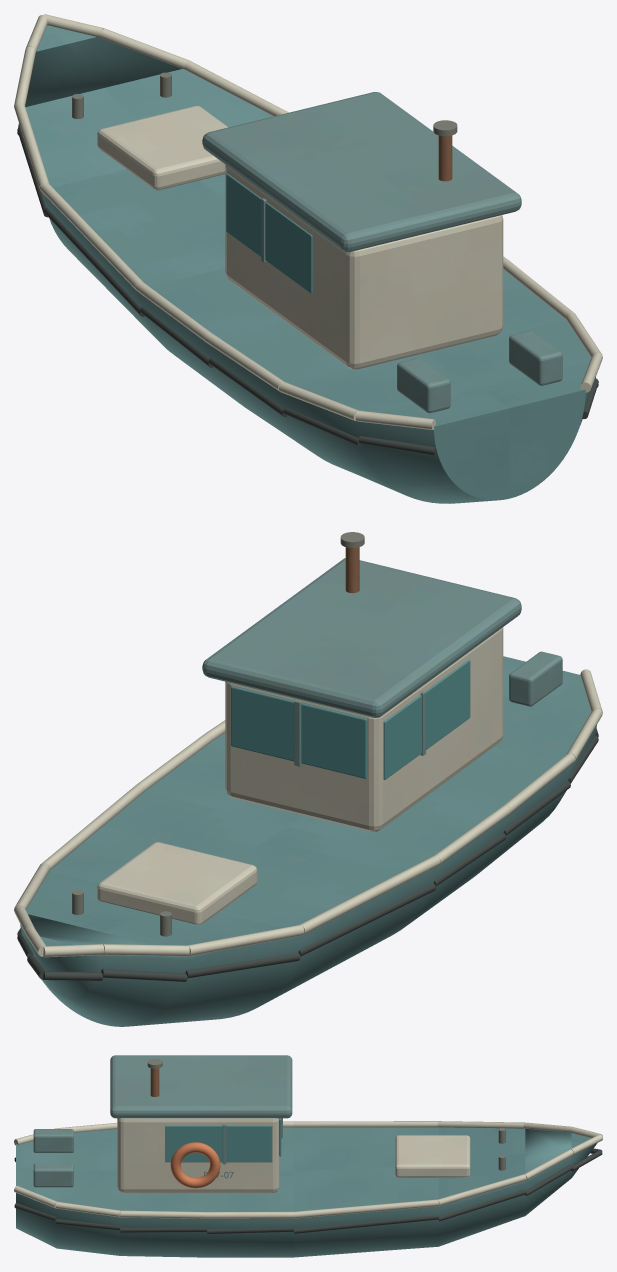
The model's file is Workboat.glb.
3 renders of one model, top to bottom at view 1: azimuth 30°, elevation 25°; view 2: azimuth 150°, elevation 25°; view 3: azimuth 270°, elevation 25°, orthographic. The views are drawn at different scales.
Visible parts, largest first — view 1: Workboat_Hull2, Boat_Wheelhouse2, Boat_Fittings2, Boat_Gunwale2, Boat_Rubbing_Strake2; view 2: Workboat_Hull2, Boat_Wheelhouse2, Boat_Fittings2, Boat_Gunwale2, Boat_Rubbing_Strake2; view 3: Workboat_Hull2, Boat_Wheelhouse2, Boat_Gunwale2, Boat_Fittings2, Boat_Rubbing_Strake2, Boat_Lifering2.
Boxes of the visible parts, x1=… form: Workboat_Hull2: x1=25, y1=25, x2=595, y2=503; Boat_Wheelhouse2: x1=202, y1=92, x2=521, y2=369; Boat_Fittings2: x1=72, y1=72, x2=562, y2=412; Boat_Gunwale2: x1=14, y1=14, x2=602, y2=429; Boat_Rubbing_Strake2: x1=17, y1=123, x2=598, y2=455; Workboat_Hull2: x1=20, y1=656, x2=596, y2=1026; Boat_Wheelhouse2: x1=202, y1=558, x2=521, y2=831; Boat_Fittings2: x1=72, y1=532, x2=562, y2=936; Boat_Gunwale2: x1=14, y1=669, x2=602, y2=957; Boat_Rubbing_Strake2: x1=17, y1=728, x2=598, y2=981; Workboat_Hull2: x1=16, y1=1127, x2=597, y2=1257; Boat_Wheelhouse2: x1=110, y1=1055, x2=292, y2=1192; Boat_Gunwale2: x1=14, y1=1121, x2=602, y2=1218; Boat_Fittings2: x1=33, y1=1058, x2=505, y2=1187; Boat_Rubbing_Strake2: x1=14, y1=1148, x2=602, y2=1233; Boat_Lifering2: x1=170, y1=1142, x2=220, y2=1188.
Size of the model in its own units: 3.84 by 3.75 by 10.18.
Materials: 11 (7 with a texture image).
